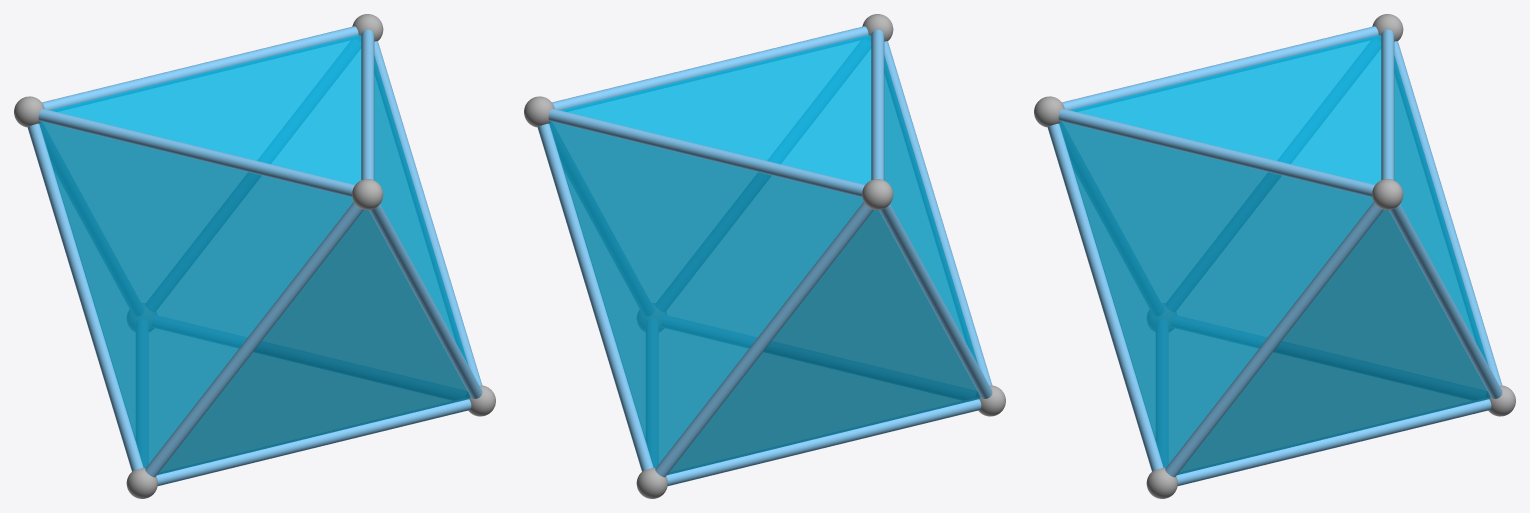
The model's file is octahedron.glb.
3 renders of one model, left to right at view 1: azimuth 30°, elevation 25°; view 2: azimuth 150°, elevation 25°; view 3: azimuth 270°, elevation 25°, orthographic.
Bounding box in the file's own units: 6.48 × 5.38 × 7.41.
